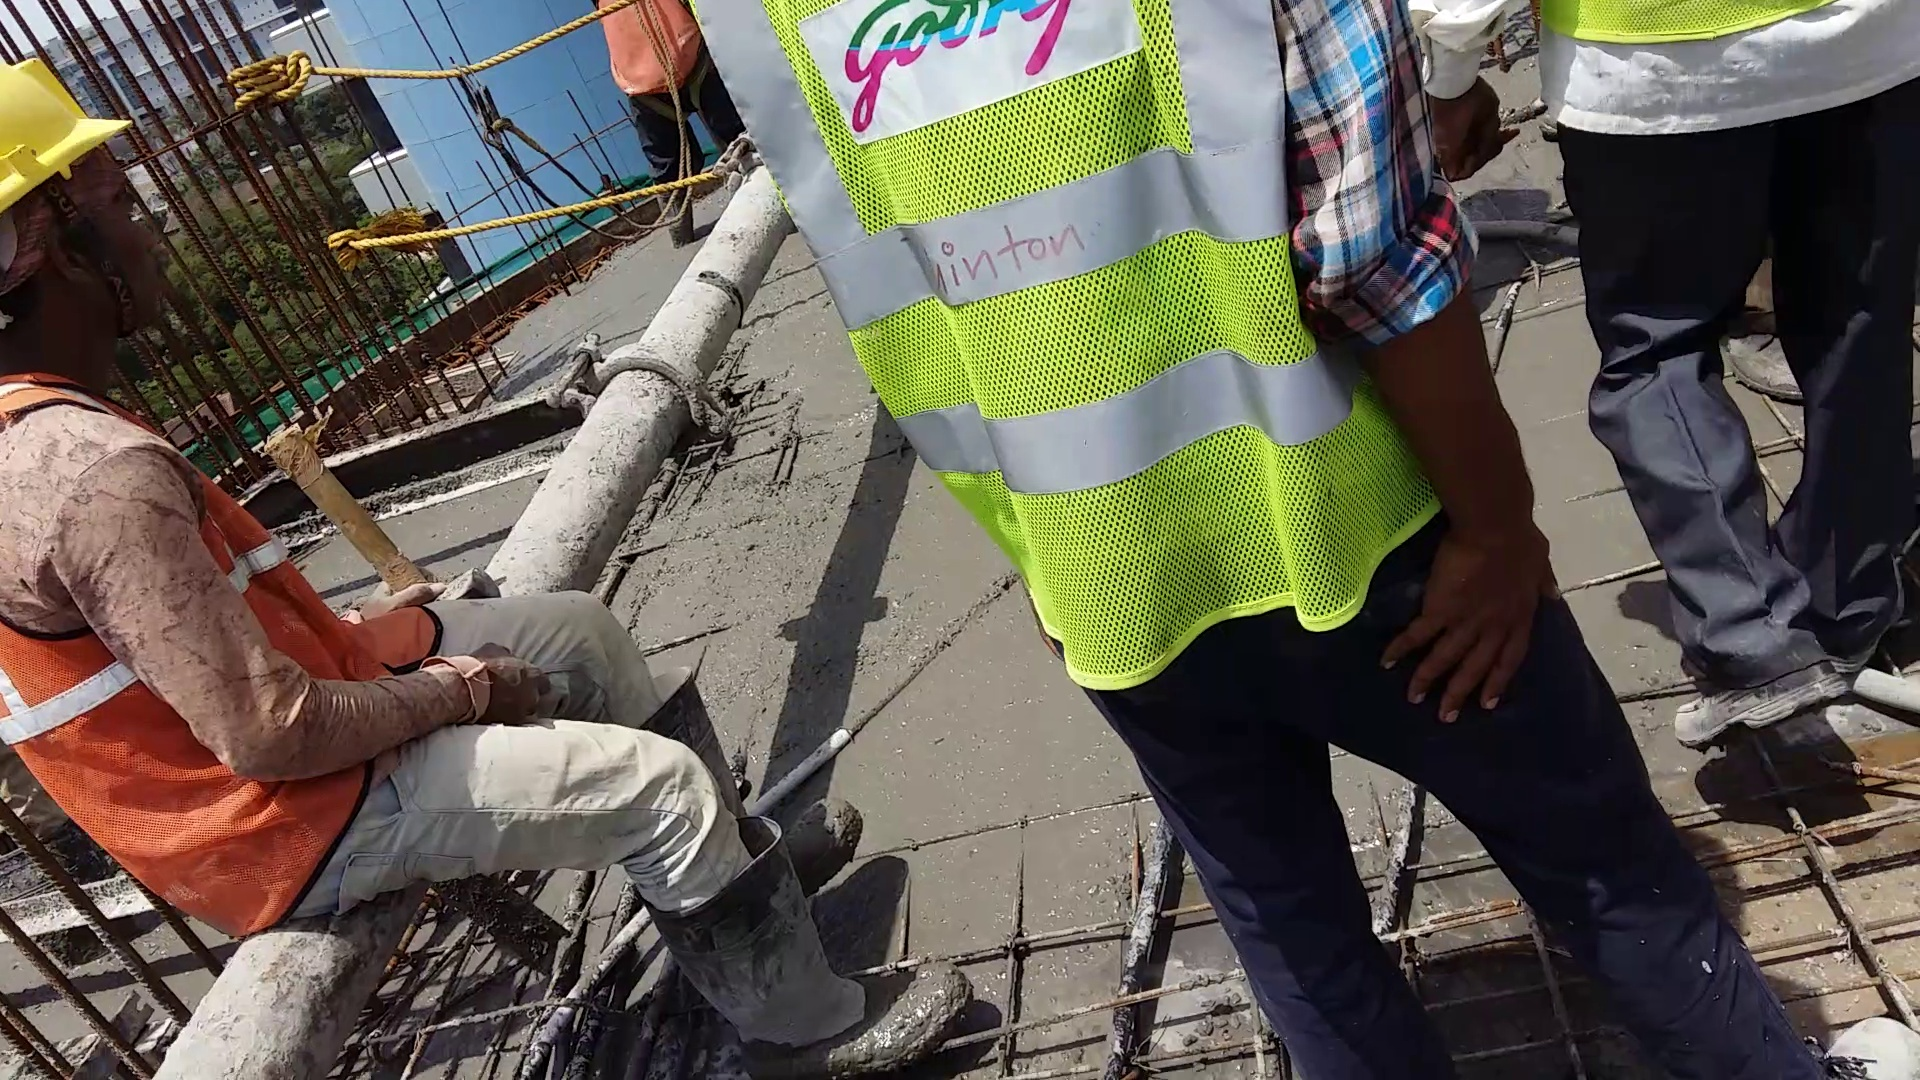SAFE: (1, 55, 335, 930)
